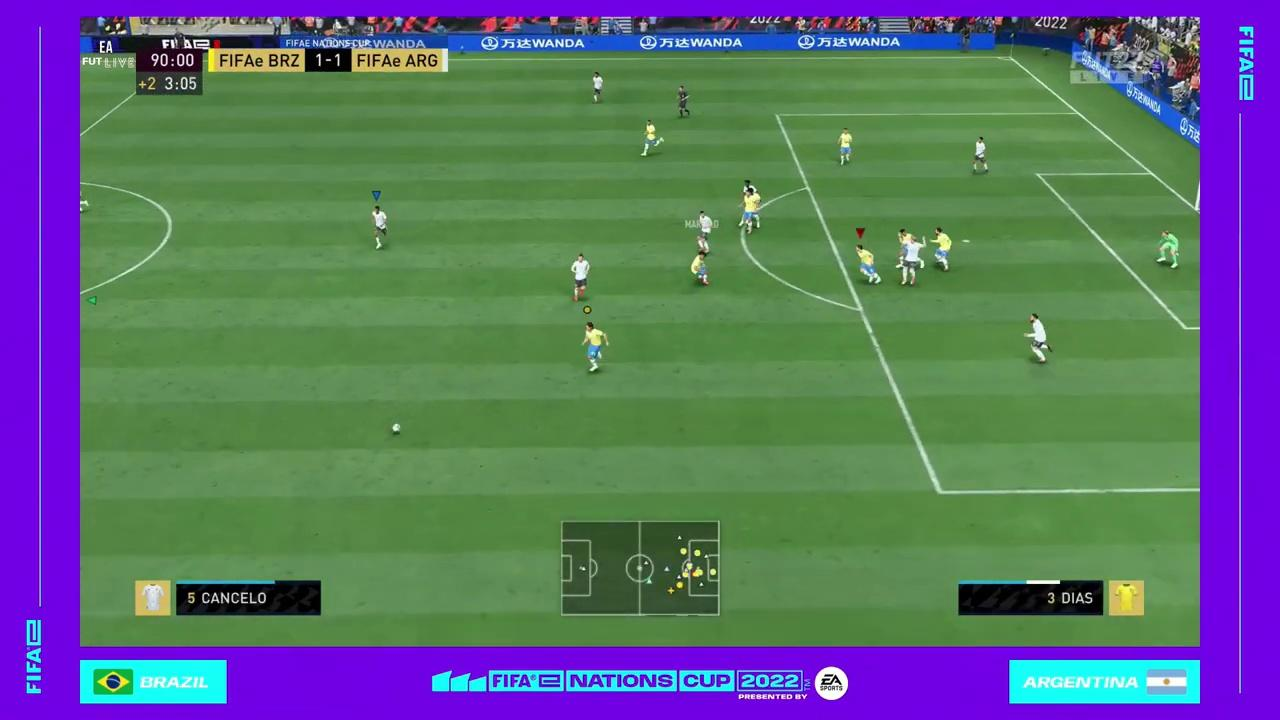scoreboard: (208, 49, 450, 74)
timestamp: (138, 52, 204, 99)
